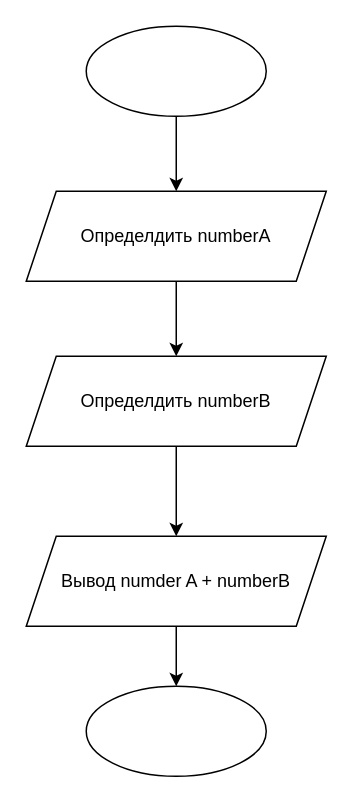
The diagram is 353 pixels wide and 803 high, and some of its shapes have lost their labels. Here are the shapes that lost their labels. From the top down, the centre of each, then its label:
(x=175, y=70): Start
(x=175, y=730): End
